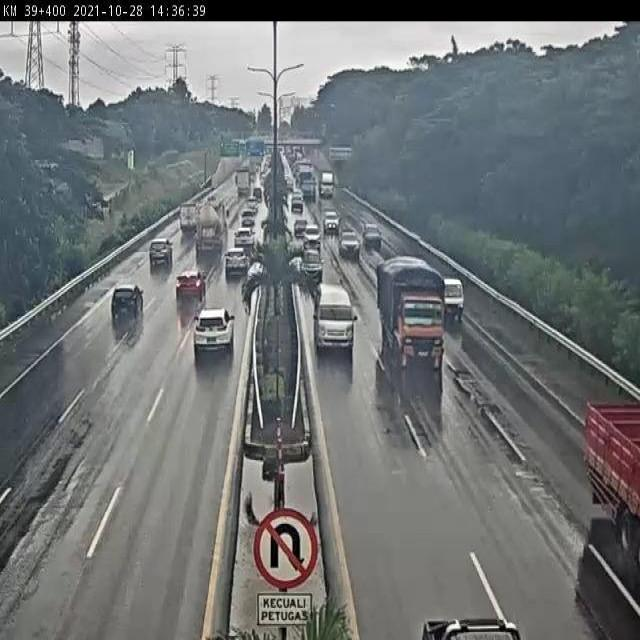bus-s-: (315, 286, 357, 350)
truck-m-: (376, 256, 447, 367)
truck-xl-: (191, 204, 230, 263)
